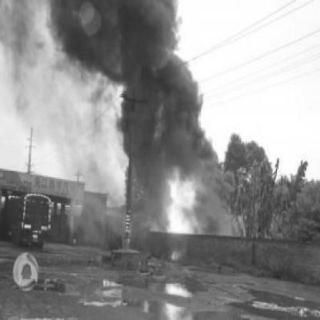other: (158, 263, 188, 316)
